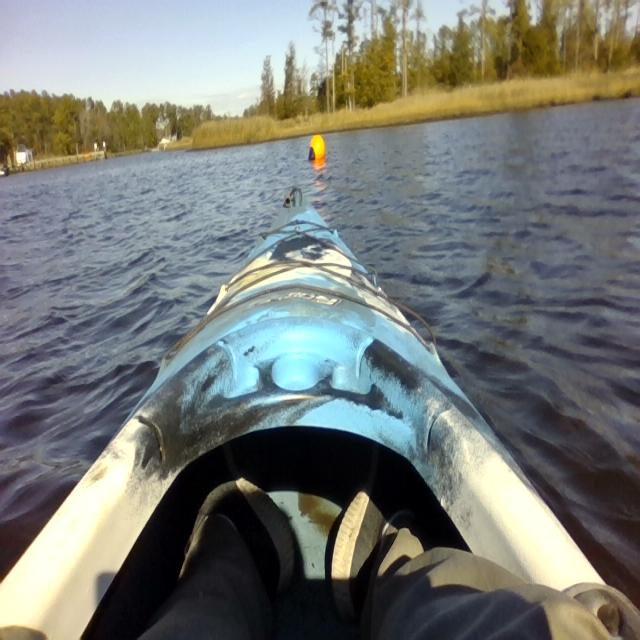Buoy: (306, 131, 328, 165)
